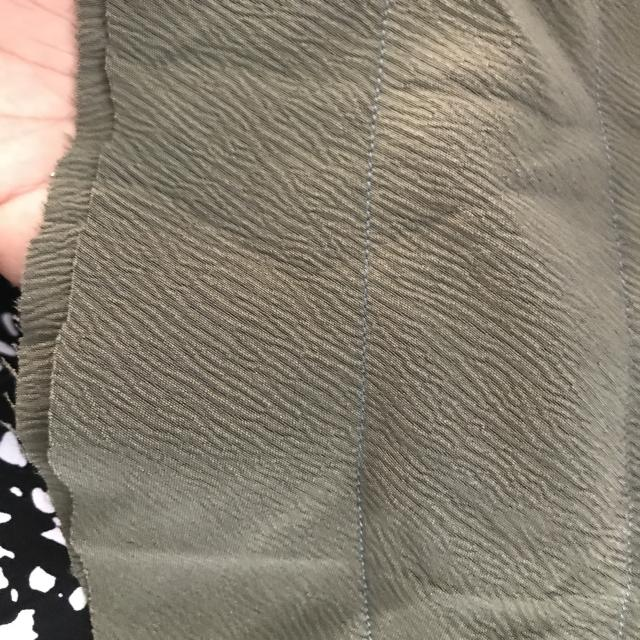good: (349, 95, 394, 248)
